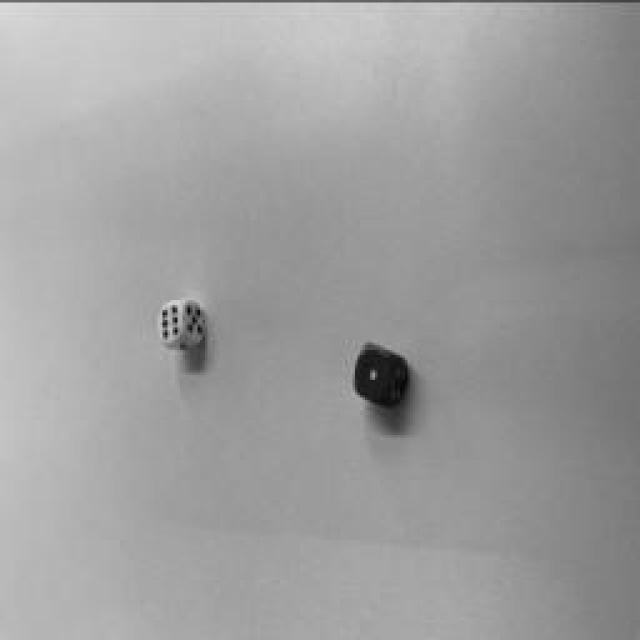dice_1: (355, 348, 393, 400)
dice_6: (158, 300, 184, 342)
